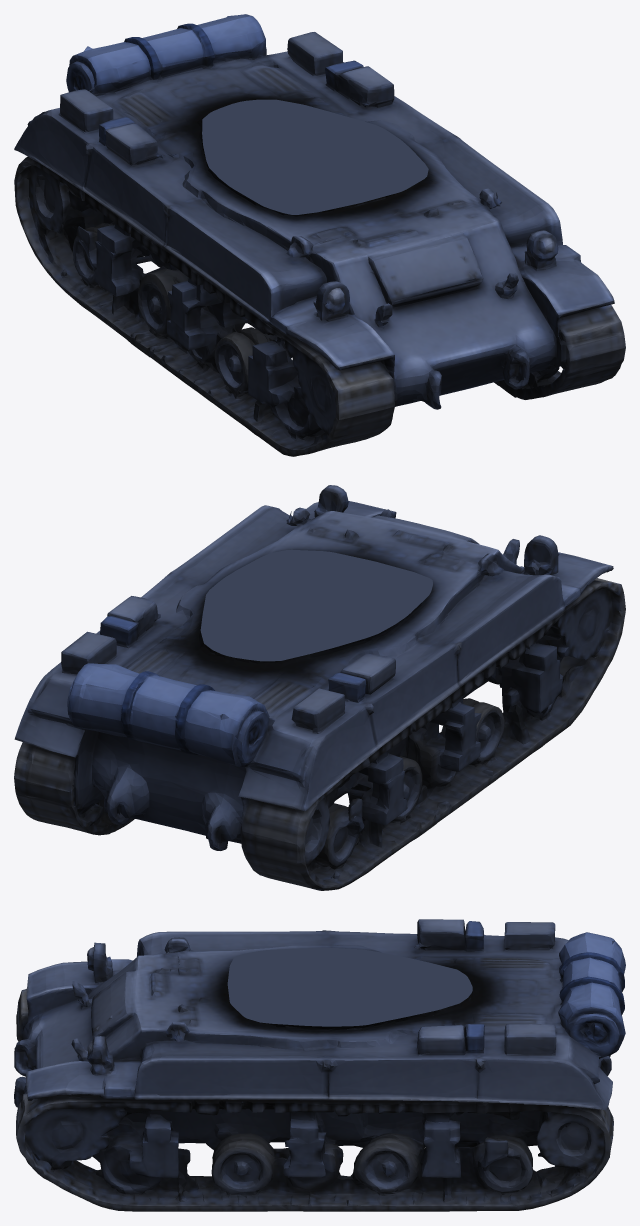
File: m26_pershing_hull_enemy.glb
3 views of the same model, one above another, from view 1: azimuth 30°, elevation 25°; view 2: azimuth 150°, elevation 25°; view 3: azimuth 270°, elevation 25° (orthographic). The views are drawn at different scales.
Parts seen in each view (by area): view 1: hull, deck_closure, fixed_stowage; view 2: hull, deck_closure, fixed_stowage; view 3: hull, deck_closure, fixed_stowage.
Part boxes in pixels (bbox=[...]): hull: bbox=[14, 44, 625, 456]; deck_closure: bbox=[202, 99, 428, 214]; fixed_stowage: bbox=[60, 14, 497, 248]; hull: bbox=[14, 485, 625, 890]; deck_closure: bbox=[200, 549, 432, 661]; fixed_stowage: bbox=[61, 507, 497, 737]; hull: bbox=[14, 930, 625, 1211]; deck_closure: bbox=[227, 947, 472, 1026]; fixed_stowage: bbox=[166, 919, 623, 1045].
Size of the model in its own units: 0.4492 by 0.2883 by 0.8726.
Materials: 2 (1 with a texture image).
